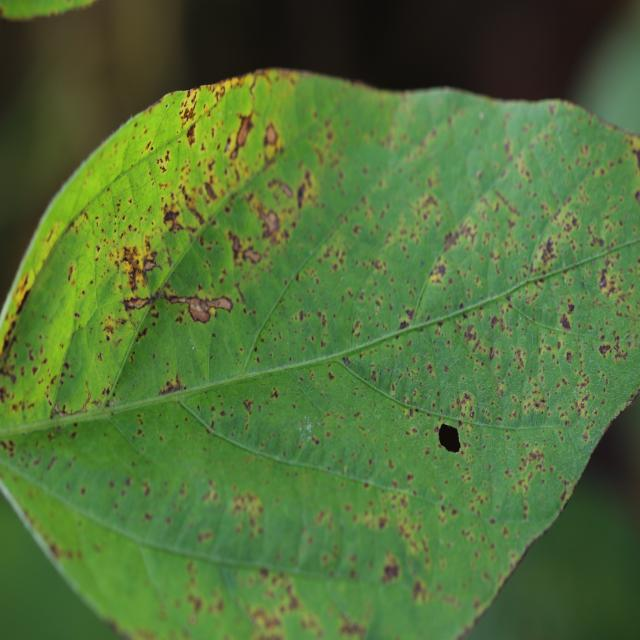Bacterial_Blight: (169, 274, 237, 331), (248, 175, 305, 241), (54, 382, 96, 417), (8, 269, 33, 326), (176, 190, 209, 226), (437, 421, 462, 454), (233, 114, 254, 151), (494, 188, 522, 215), (158, 372, 187, 396), (338, 617, 365, 638), (121, 295, 153, 311), (540, 237, 556, 263), (242, 248, 263, 265), (180, 103, 197, 123), (442, 231, 458, 252), (1, 367, 17, 385), (142, 255, 158, 272), (52, 401, 63, 417)
Soybean: (0, 71, 640, 640)
